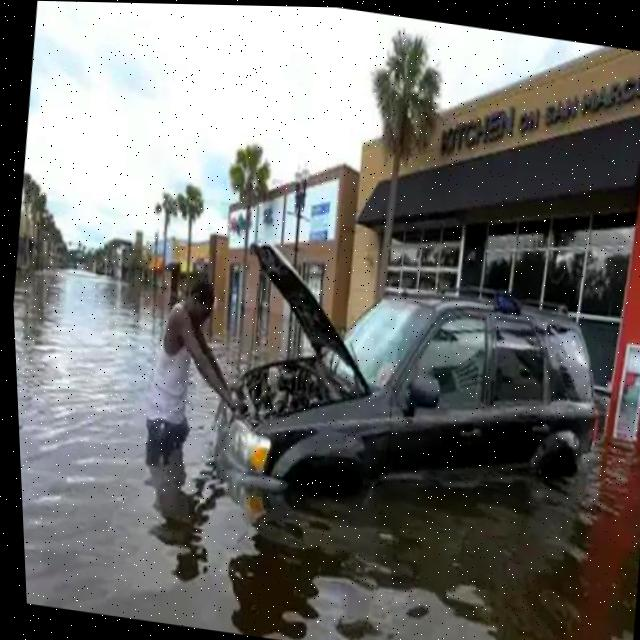civilian: (109, 260, 265, 491)
